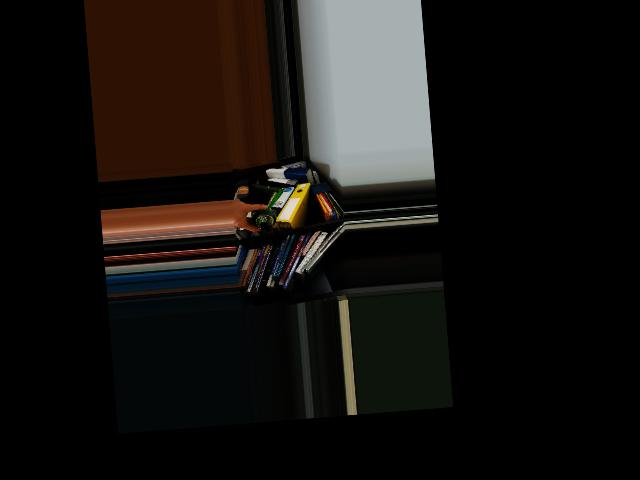beer: (251, 205, 277, 232)
